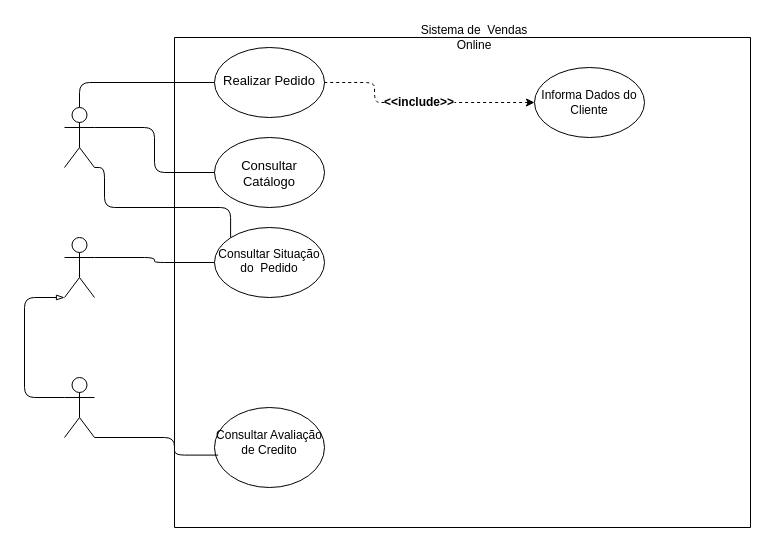
The diagram is 768 pixels wide and 545 high, and some of its shapes have lost their labels. The shapes that lost their labels are listed below. From the top down, each one's centre as x and y in pixels, then its label:
the point at 79,137: Cliente
the point at 79,267: Atendente Vendedor
the point at 79,407: Atendente Supervisor
